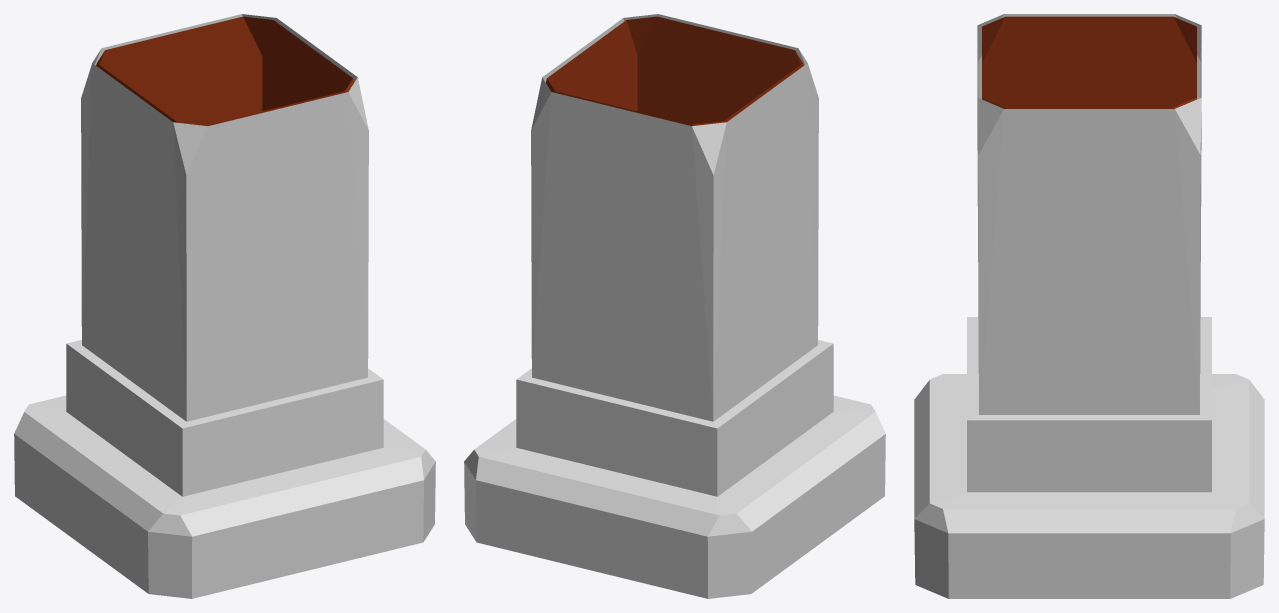
The model's file is Pilar_1A.fbx.
3 views of the same model, side by side, from view 1: azimuth 30°, elevation 25°; view 2: azimuth 150°, elevation 25°; view 3: azimuth 270°, elevation 25° (orthographic). The views are drawn at different scales.
Visible parts, largest first — view 1: Pilar_1A; view 2: Pilar_1A; view 3: Pilar_1A.
Boxes of the visible parts, x1,y1,x2,y2 form: Pilar_1A: (14,14,435,598); Pilar_1A: (464,14,885,598); Pilar_1A: (914,14,1264,598).
Bounding box in the file's own units: 2.05 × 2.05 × 3.
